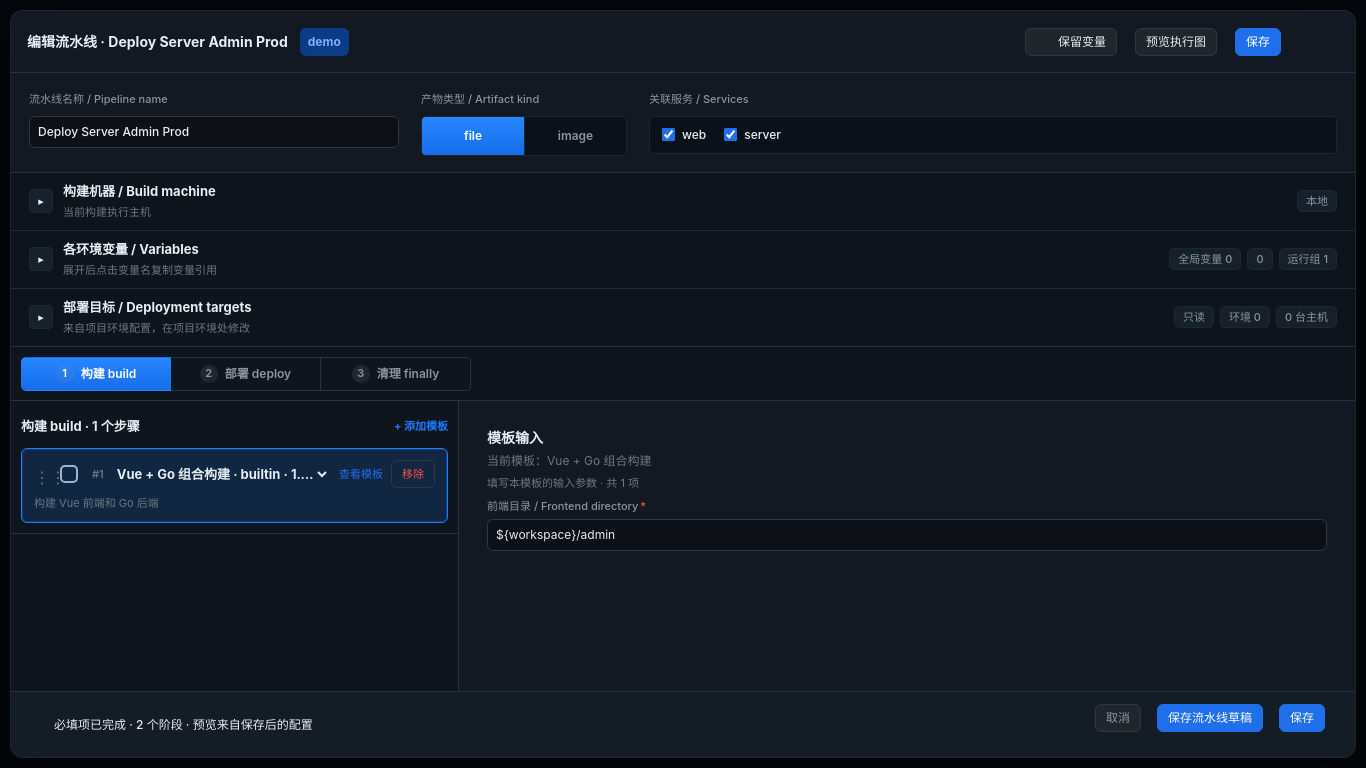
Scenario: ProjectPipelineEditor › 点击保留变量按钮后列出变量名和作用
Click the button with test id "pipeline-reserved-vars-open" at (1071, 42), box [1025,28,1117,56]
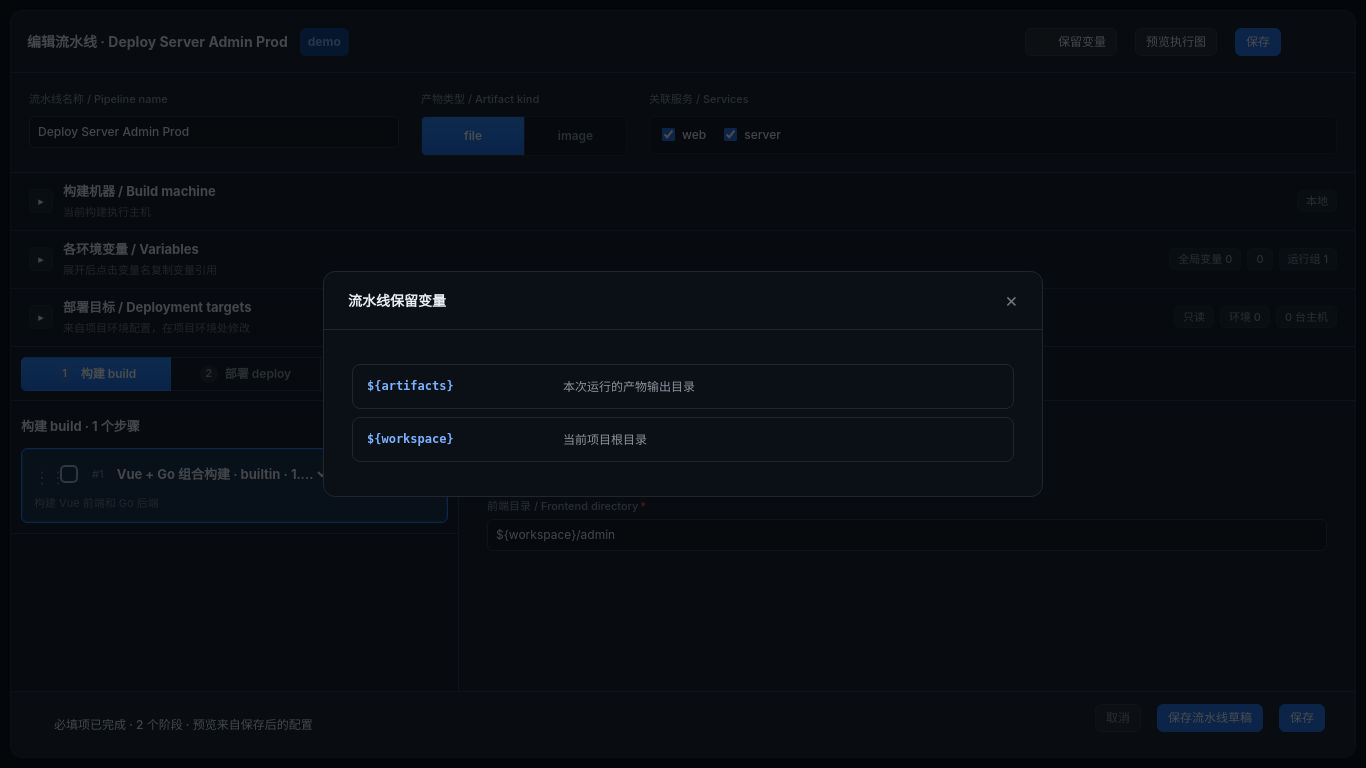
Result: the element with test id "pipeline-reserved-vars-modal" is shown
Result: the element with test id "pipeline-reserved-vars-list" shows "workspace" at [367,432,454,446]
Result: the element with test id "pipeline-reserved-vars-list" shows "当前项目根目录" at [563,432,647,447]
